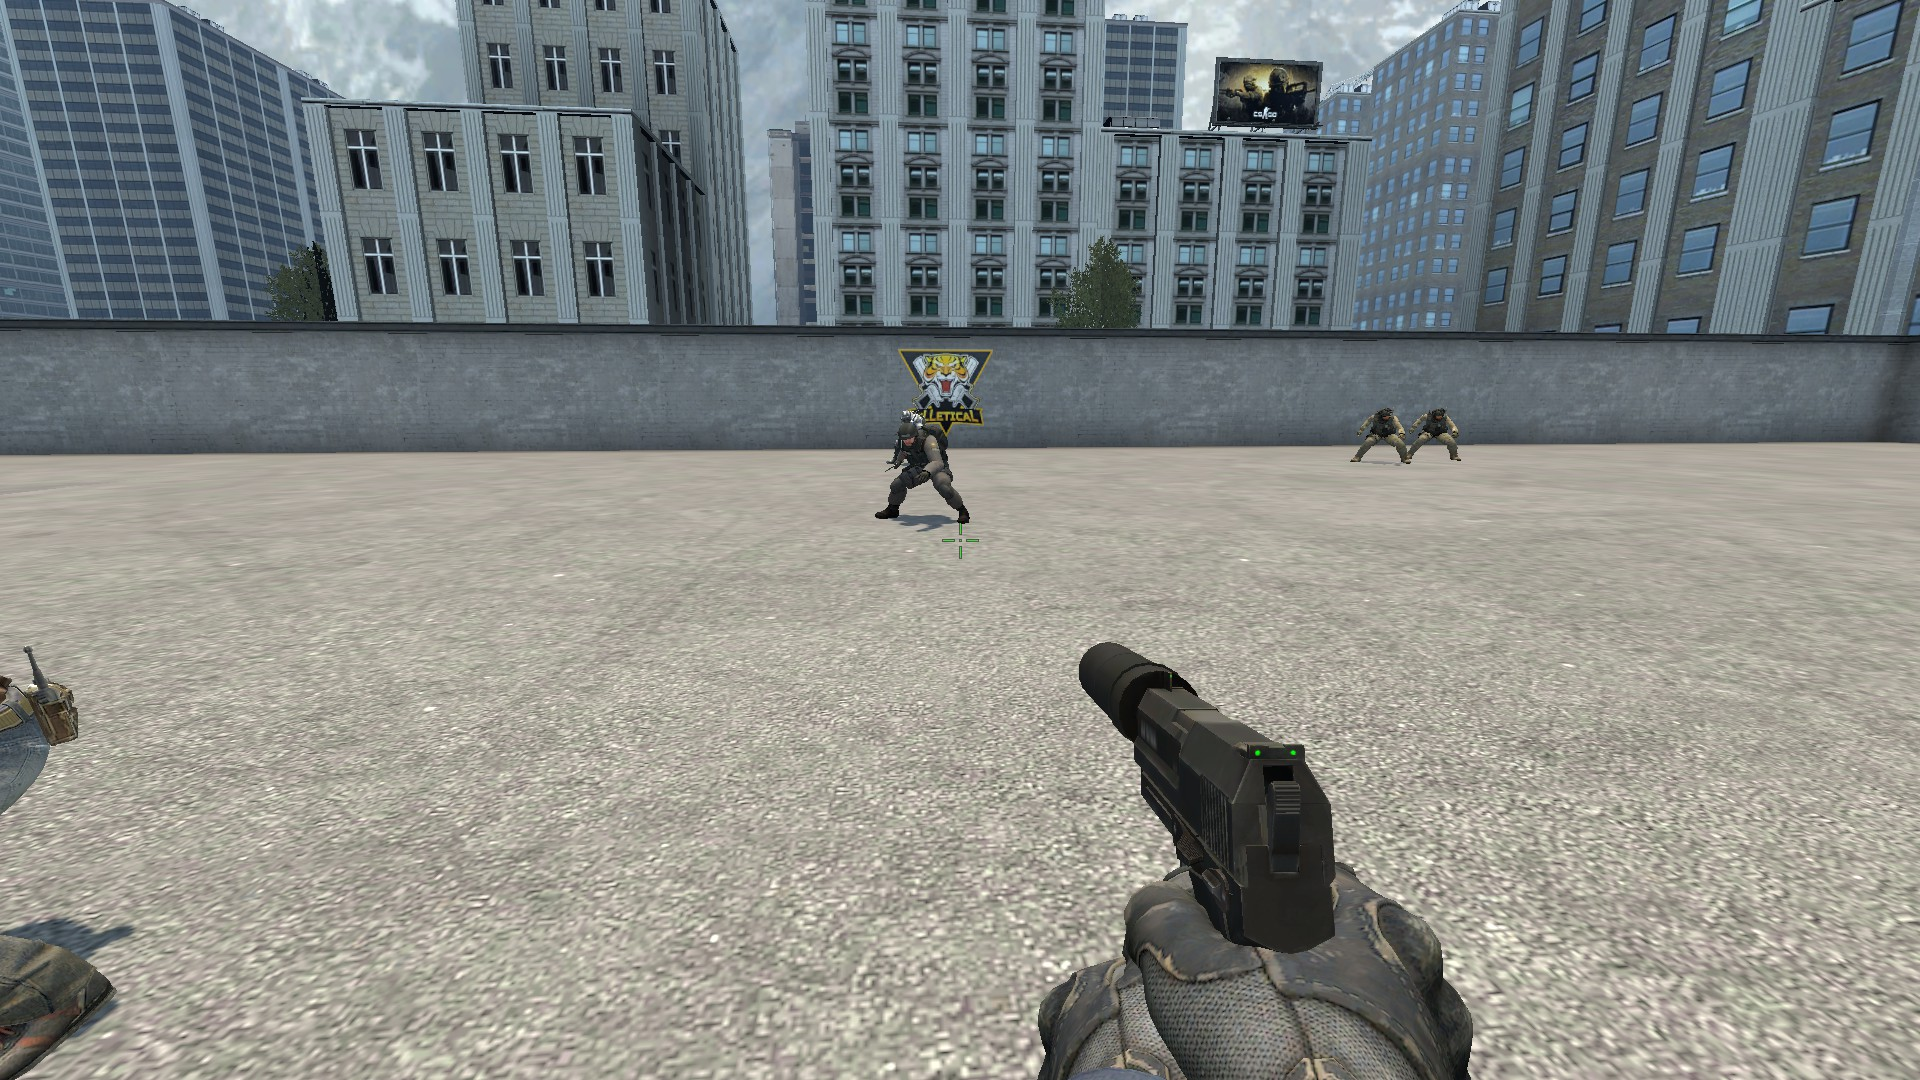ct: (874, 421, 972, 527)
ct head: (895, 421, 924, 454)
